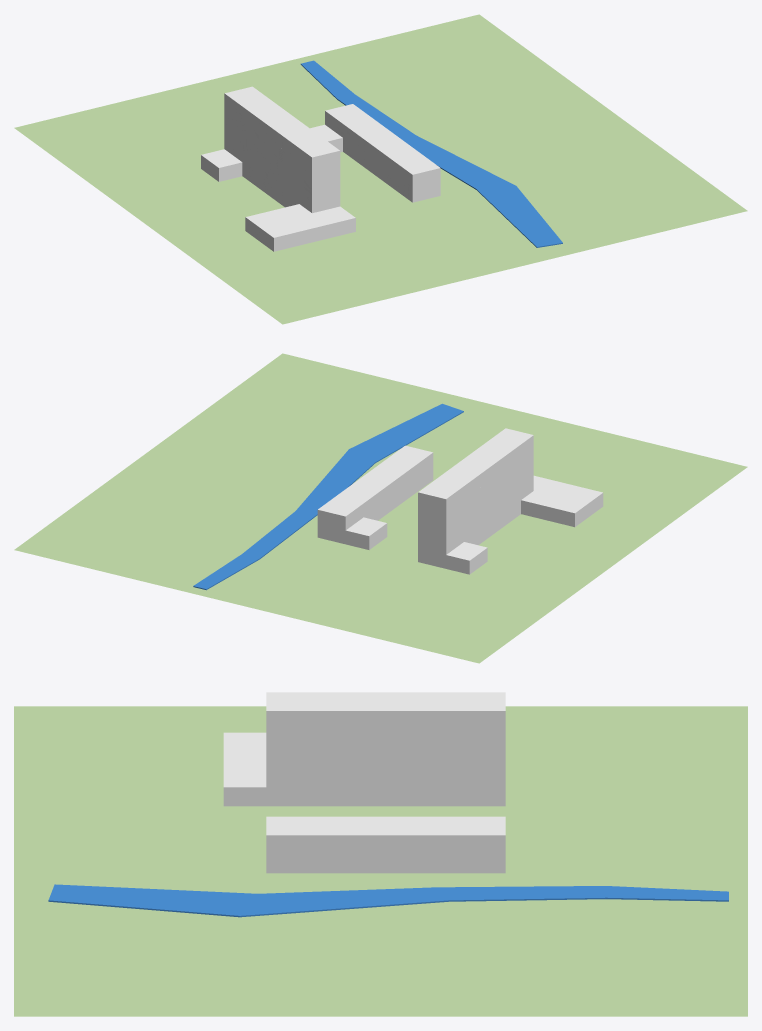
The model's file is building_02_220919_2.gltf.
The picture shows the model from 3 angles, top to bottom: view 1: azimuth 30°, elevation 25°; view 2: azimuth 150°, elevation 25°; view 3: azimuth 270°, elevation 25°; orthographic projection. The views are drawn at different scales.
Visible parts, largest first — view 1: ground, water, h2-0-1, h2-4-1, h1-1-1, h2-4-3, h1-1-2, h2-4-2, h1-1-3, h2-0-3, h2-3-1, h1-0-1 (+3 smaller); view 2: ground, water, h2-0-1, h2-4-3, h1-1-3, h1-0-3, h2-0-3, h2-4-2, h1-1-1, h2-4-1, h1-1-2, h2-2-3 (+2 smaller); view 3: ground, water, h2-0-1, h2-4-3, h2-4-2, h2-4-1, h1-1-3, h1-1-2, h1-1-1, h2-3-1, h2-3-2, h2-3-3 (+11 smaller).
Boxes of the visible parts, left/top/right/bottom form: ground: left=14, top=14, right=747, bottom=324; water: left=300, top=60, right=562, bottom=247; h2-0-1: left=245, top=192, right=355, bottom=251; h2-4-1: left=283, top=129, right=340, bottom=171; h1-1-1: left=383, top=146, right=440, bottom=188; h2-4-3: left=224, top=86, right=281, bottom=128; h1-1-2: left=354, top=125, right=410, bottom=166; h2-4-2: left=253, top=108, right=310, bottom=149; h1-1-3: left=325, top=104, right=381, bottom=145; h2-0-3: left=201, top=149, right=253, bottom=183; h2-3-1: left=283, top=150, right=340, bottom=185; h1-0-1: left=383, top=167, right=440, bottom=202; ground: left=14, top=353, right=747, bottom=663; water: left=193, top=403, right=463, bottom=590; h2-0-1: left=504, top=475, right=603, bottom=527; h2-4-3: left=418, top=471, right=475, bottom=512; h1-1-3: left=317, top=488, right=374, bottom=530; h1-0-3: left=317, top=509, right=387, bottom=549; h2-0-3: left=418, top=534, right=487, bottom=574; h2-4-2: left=448, top=449, right=504, bottom=491; h1-1-1: left=376, top=445, right=433, bottom=487; h2-4-1: left=477, top=428, right=533, bottom=469; h1-1-2: left=347, top=467, right=403, bottom=508; h2-2-3: left=418, top=506, right=475, bottom=540; ground: left=14, top=706, right=747, bottom=1016; water: left=48, top=884, right=728, bottom=917; h2-0-1: left=223, top=732, right=345, bottom=806; h2-4-3: left=426, top=692, right=505, bottom=730; h2-4-2: left=346, top=692, right=425, bottom=730; h2-4-1: left=266, top=692, right=345, bottom=730; h1-1-3: left=426, top=816, right=505, bottom=854; h1-1-2: left=346, top=816, right=425, bottom=854; h1-1-1: left=266, top=816, right=345, bottom=854; h2-3-1: left=266, top=730, right=345, bottom=749; h2-3-2: left=346, top=730, right=425, bottom=749; h2-3-3: left=426, top=730, right=505, bottom=749.
Bounding box in the file's own units: 16.56 × 2.37 × 16.56.
